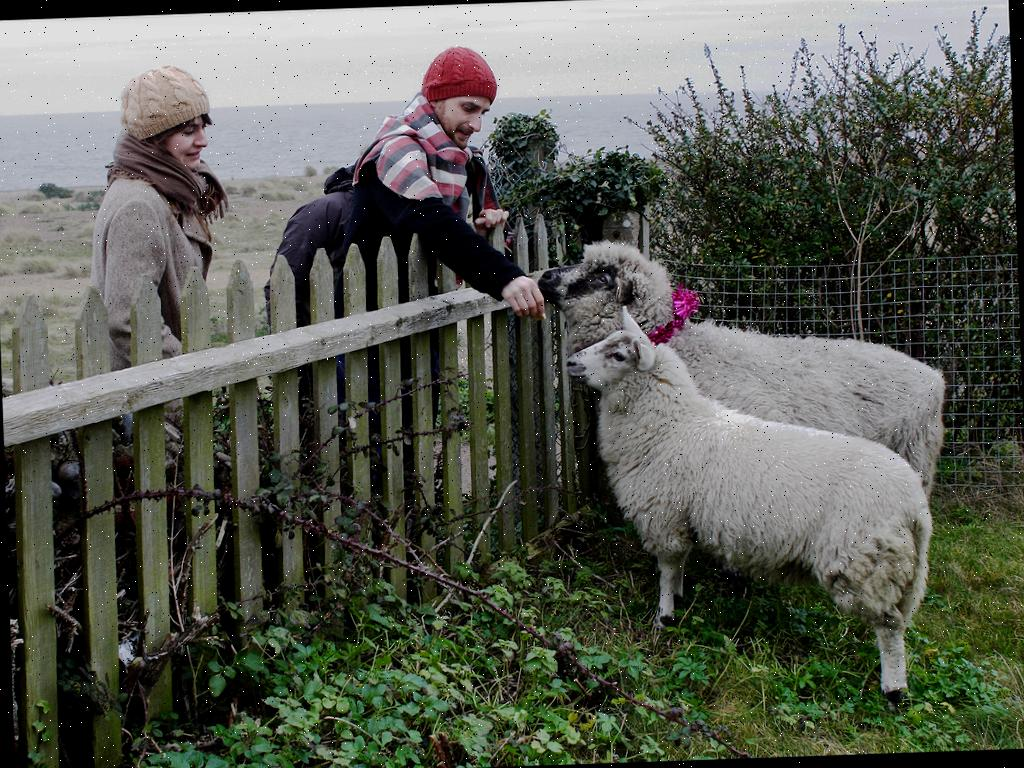Sheep: (562, 308, 944, 712), (534, 226, 956, 511)
